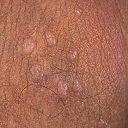Wart: (23, 34, 83, 97)
